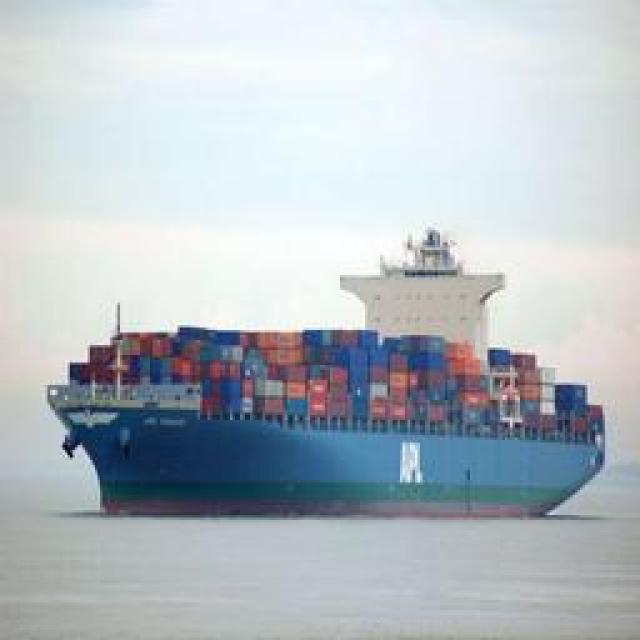CIV_Ship: (37, 251, 615, 514)
